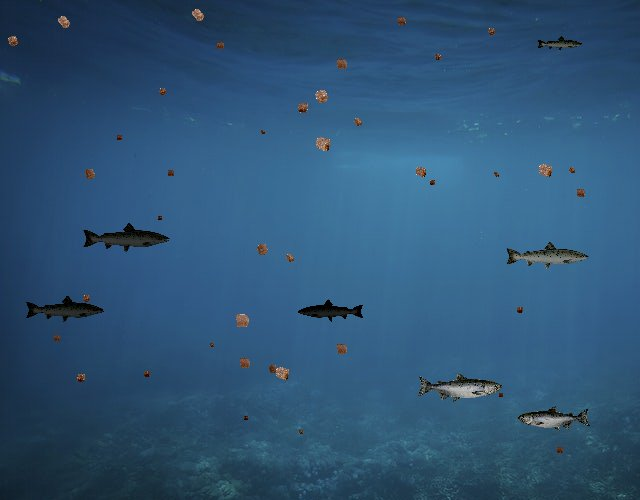Fish: (82, 222, 172, 254), (504, 240, 590, 271), (416, 372, 502, 403), (25, 295, 106, 324), (518, 406, 591, 432), (298, 298, 366, 322), (537, 35, 584, 52)
Pellet: (1, 30, 24, 52), (571, 183, 590, 202), (348, 113, 367, 132), (392, 12, 410, 30), (426, 176, 439, 189), (113, 131, 125, 143), (206, 339, 216, 350)
